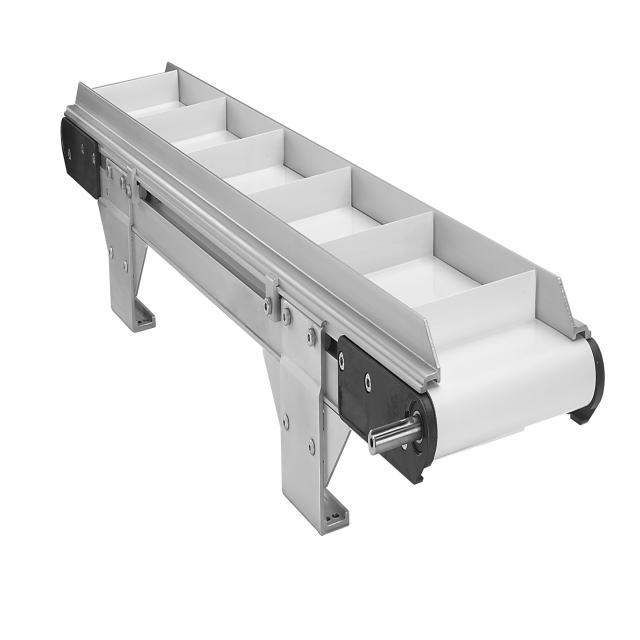conveyor: (43, 53, 607, 548)
